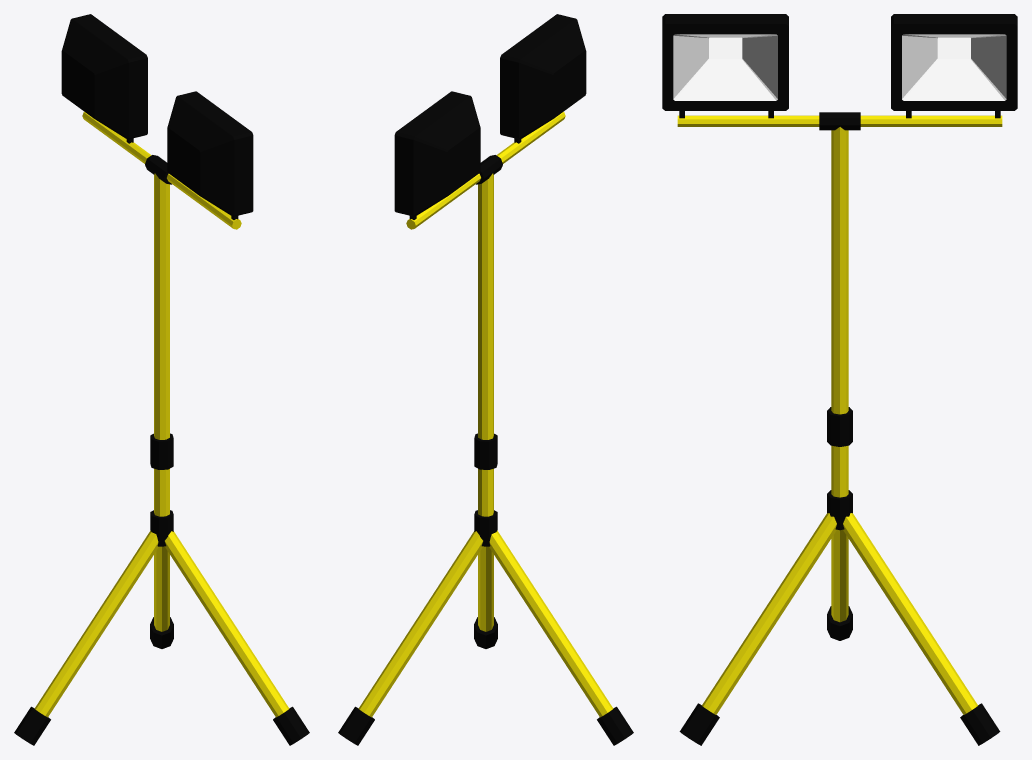
Rendered from prop_projector_light.glb.
The picture shows the model from 3 angles, left to right: view 1: azimuth 30°, elevation 25°; view 2: azimuth 150°, elevation 25°; view 3: azimuth 270°, elevation 25°; orthographic projection. The views are drawn at different scales.
Visible parts, largest first — view 1: Цилиндр_002, Куб; view 2: Цилиндр_002, Куб; view 3: Куб, Цилиндр_002.
Part boxes in pixels (x1,y1,x2,y2): Цилиндр_002: (14,112,309,745); Куб: (61,14,253,219); Цилиндр_002: (338,112,633,745); Куб: (394,14,586,219); Куб: (662,14,1017,118); Цилиндр_002: (677,112,1002,745).
Bounding box in the file's own units: 0.8292 × 2.25 × 1.05.
